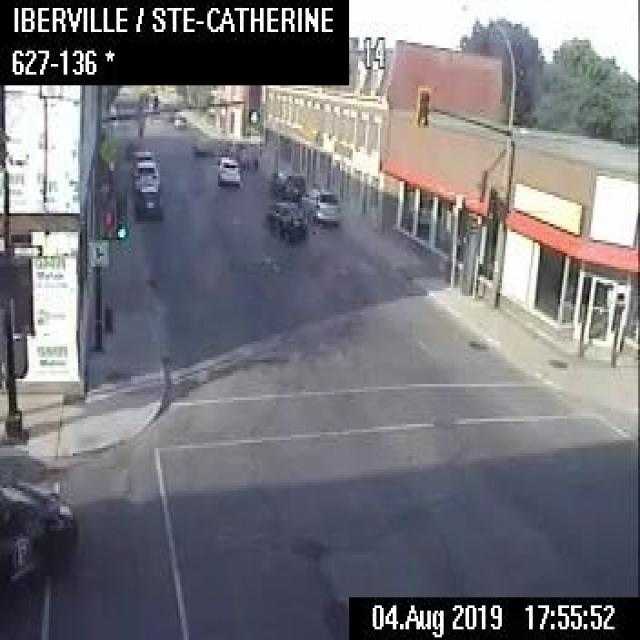vehicle: (0, 478, 78, 598), (262, 196, 306, 242), (300, 183, 338, 221), (268, 167, 305, 198), (132, 158, 159, 192), (135, 184, 162, 216), (216, 153, 239, 184), (130, 148, 152, 174), (191, 134, 211, 154), (173, 112, 185, 128)
